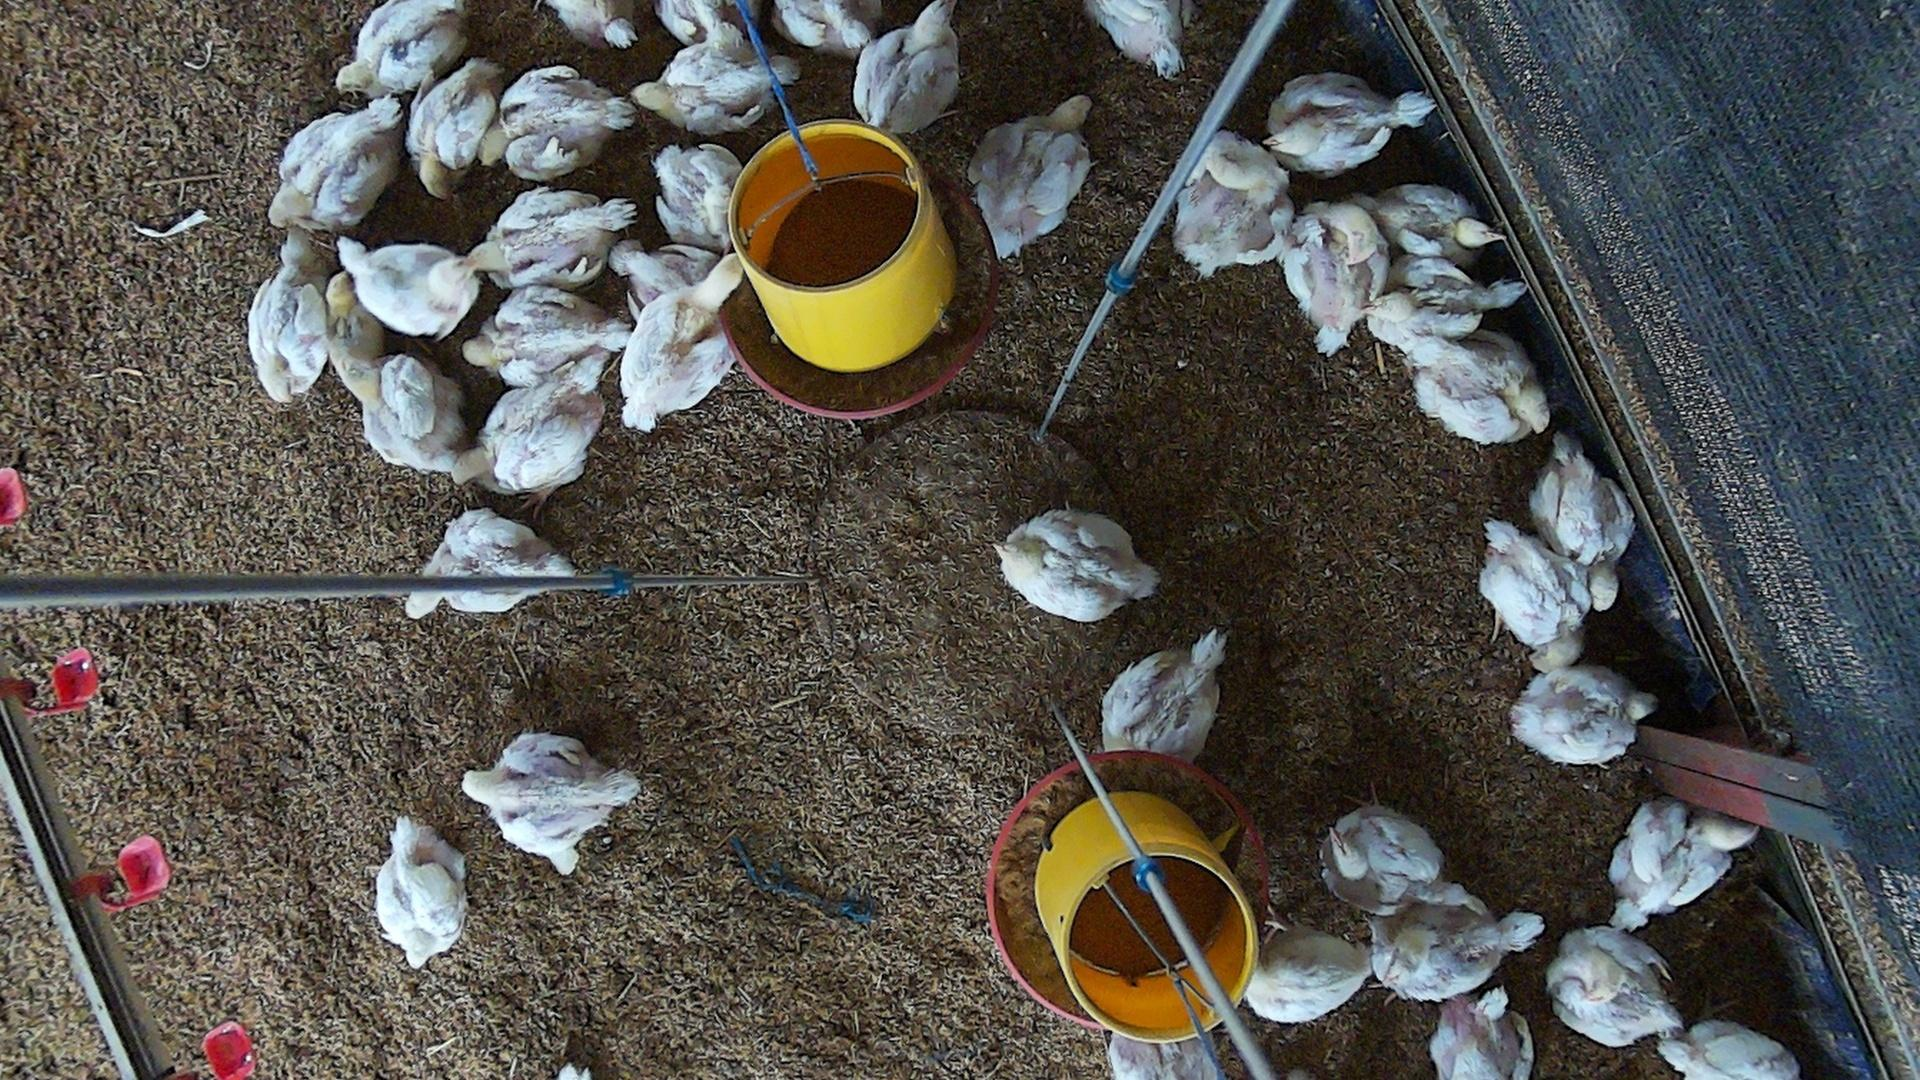ayam_broiler: (460, 731, 638, 876), (621, 255, 742, 433), (454, 361, 609, 495), (971, 95, 1092, 258), (1366, 889, 1540, 1001), (402, 508, 576, 618), (1607, 803, 1756, 928), (997, 508, 1159, 621), (1530, 431, 1635, 604), (269, 98, 404, 231), (1265, 71, 1435, 174), (462, 282, 632, 385), (467, 186, 636, 289), (1366, 256, 1528, 363), (1174, 133, 1292, 278), (1480, 520, 1592, 673), (1276, 200, 1387, 355), (492, 65, 637, 179), (1547, 926, 1681, 1047), (339, 353, 469, 475), (1100, 632, 1225, 757), (1410, 331, 1549, 443), (1511, 663, 1655, 765), (632, 46, 796, 135), (334, 237, 481, 335), (853, 1, 961, 132), (249, 232, 330, 402), (377, 816, 467, 967), (1324, 803, 1443, 911), (406, 59, 497, 196), (338, 0, 465, 96), (1245, 926, 1373, 1022), (1370, 182, 1499, 260), (1431, 986, 1535, 1080), (654, 142, 741, 248), (1660, 1018, 1797, 1080), (1084, 0, 1183, 76), (654, 0, 771, 47), (1108, 1034, 1224, 1079), (774, 0, 873, 51), (547, 1, 636, 49)
